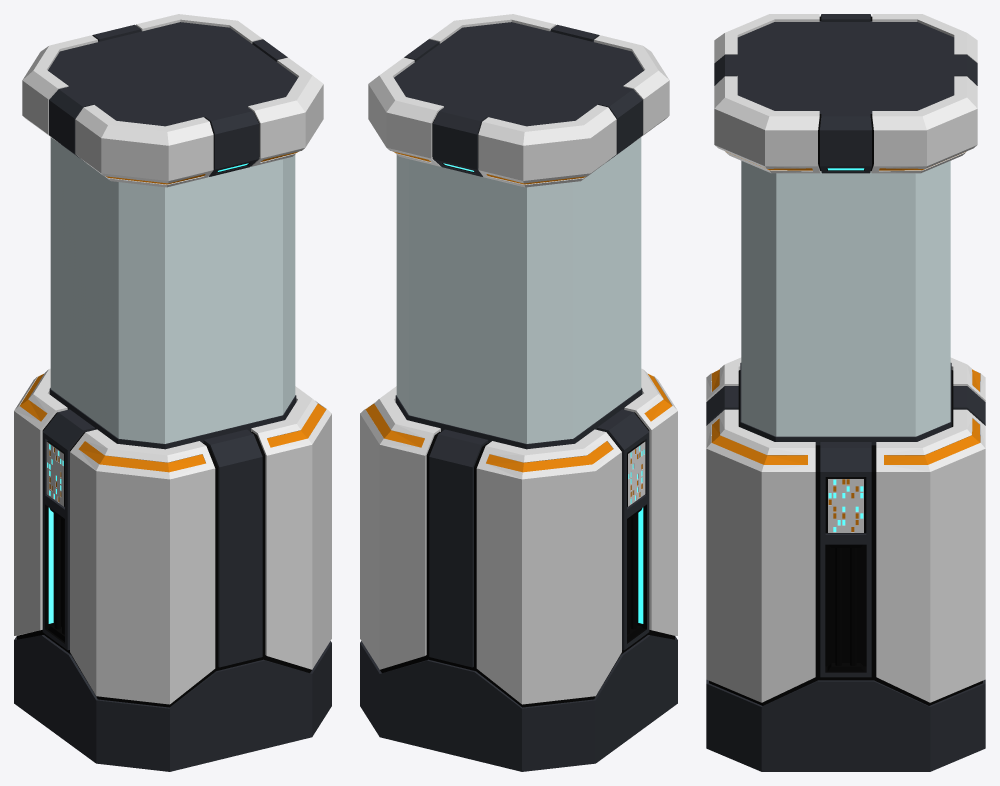
The model's file is SM_Botanical_CarnivorousSpecimen_Tall.fbx.
3 renders of one model, left to right at view 1: azimuth 30°, elevation 25°; view 2: azimuth 150°, elevation 25°; view 3: azimuth 270°, elevation 25°, orthographic. The views are drawn at different scales.
Parts seen in each view (by area): view 1: SM_Botanical_CarnivorousSpecimen_Tall; view 2: SM_Botanical_CarnivorousSpecimen_Tall; view 3: SM_Botanical_CarnivorousSpecimen_Tall.
Boxes of the visible parts, box(x1,y1,x2,y2) form: SM_Botanical_CarnivorousSpecimen_Tall: box(14, 14, 331, 771); SM_Botanical_CarnivorousSpecimen_Tall: box(360, 14, 677, 771); SM_Botanical_CarnivorousSpecimen_Tall: box(706, 14, 985, 771).
Size of the model in its own units: 80 by 205 by 80.
